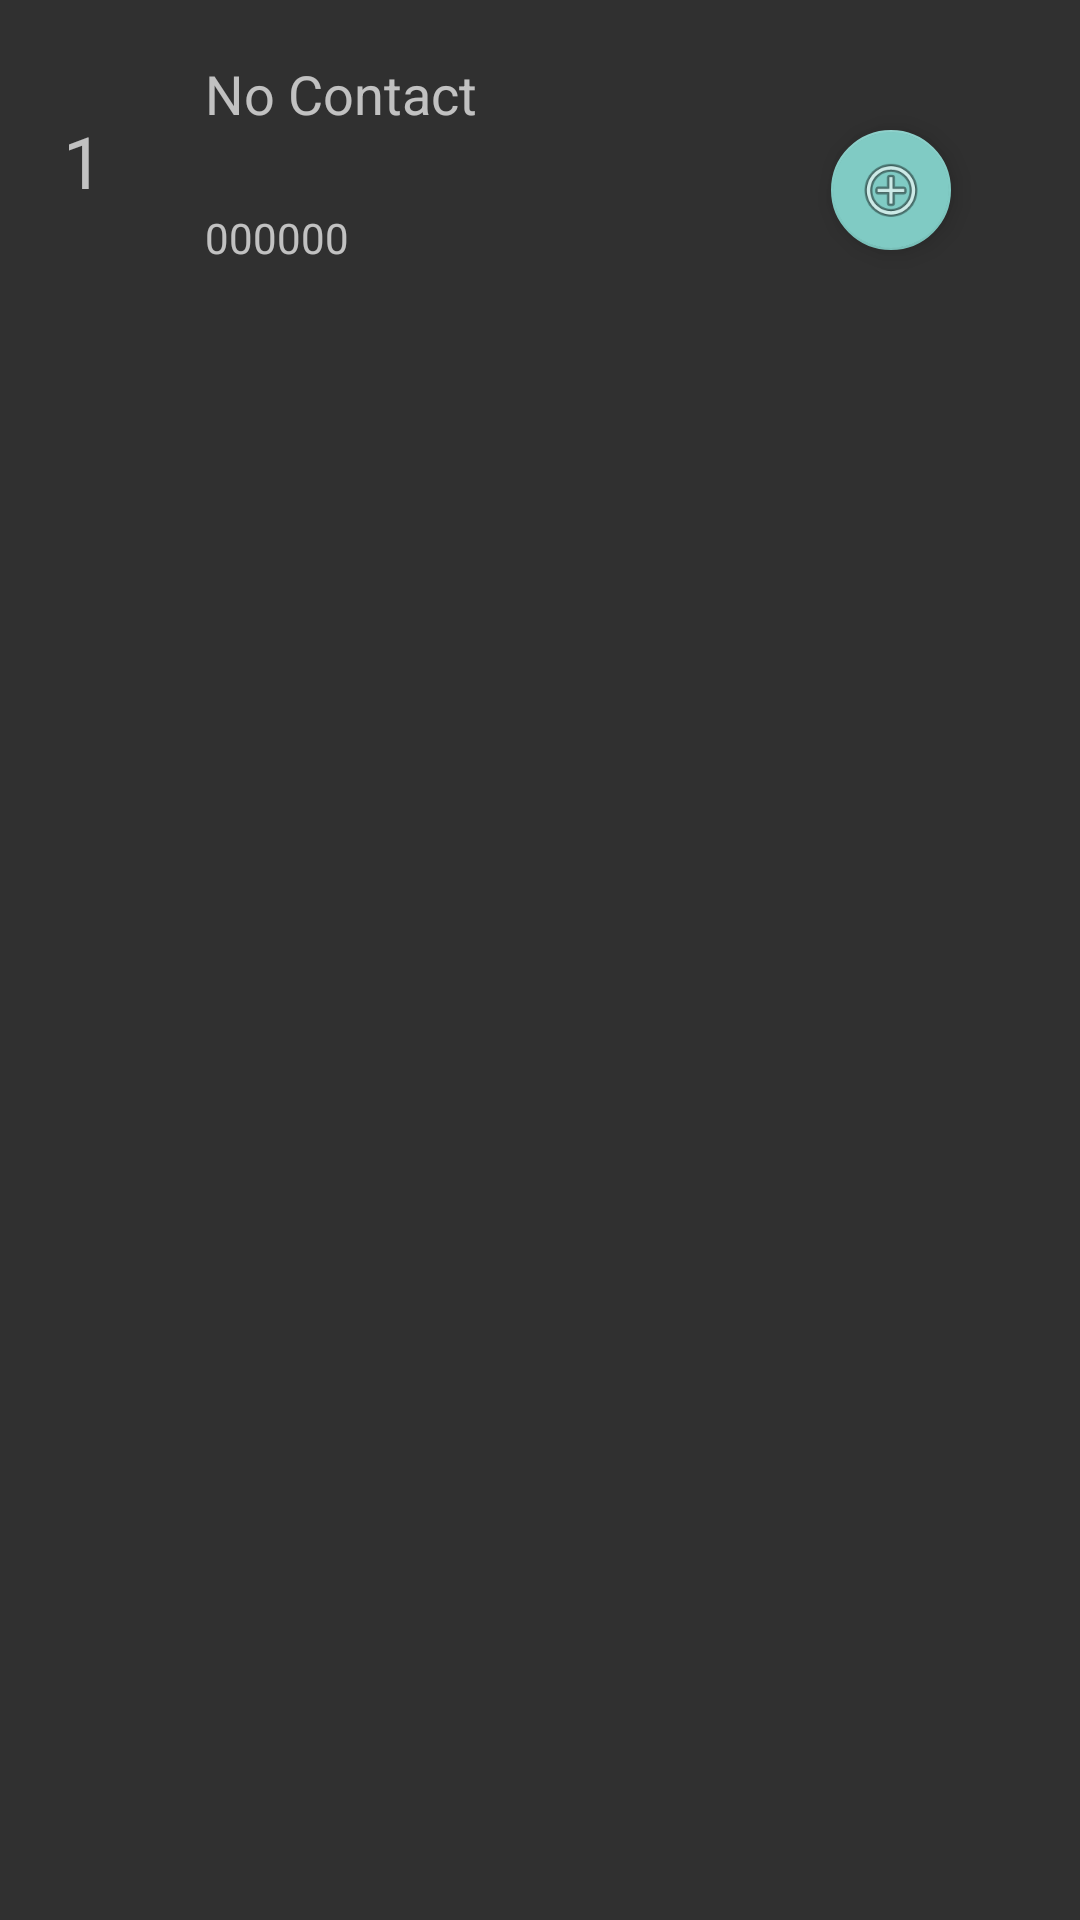

Icon bounding boxes for this 1080x1920 phone screenshot, format (x1, y1, x2, y2):
add: (831, 130, 951, 250)
